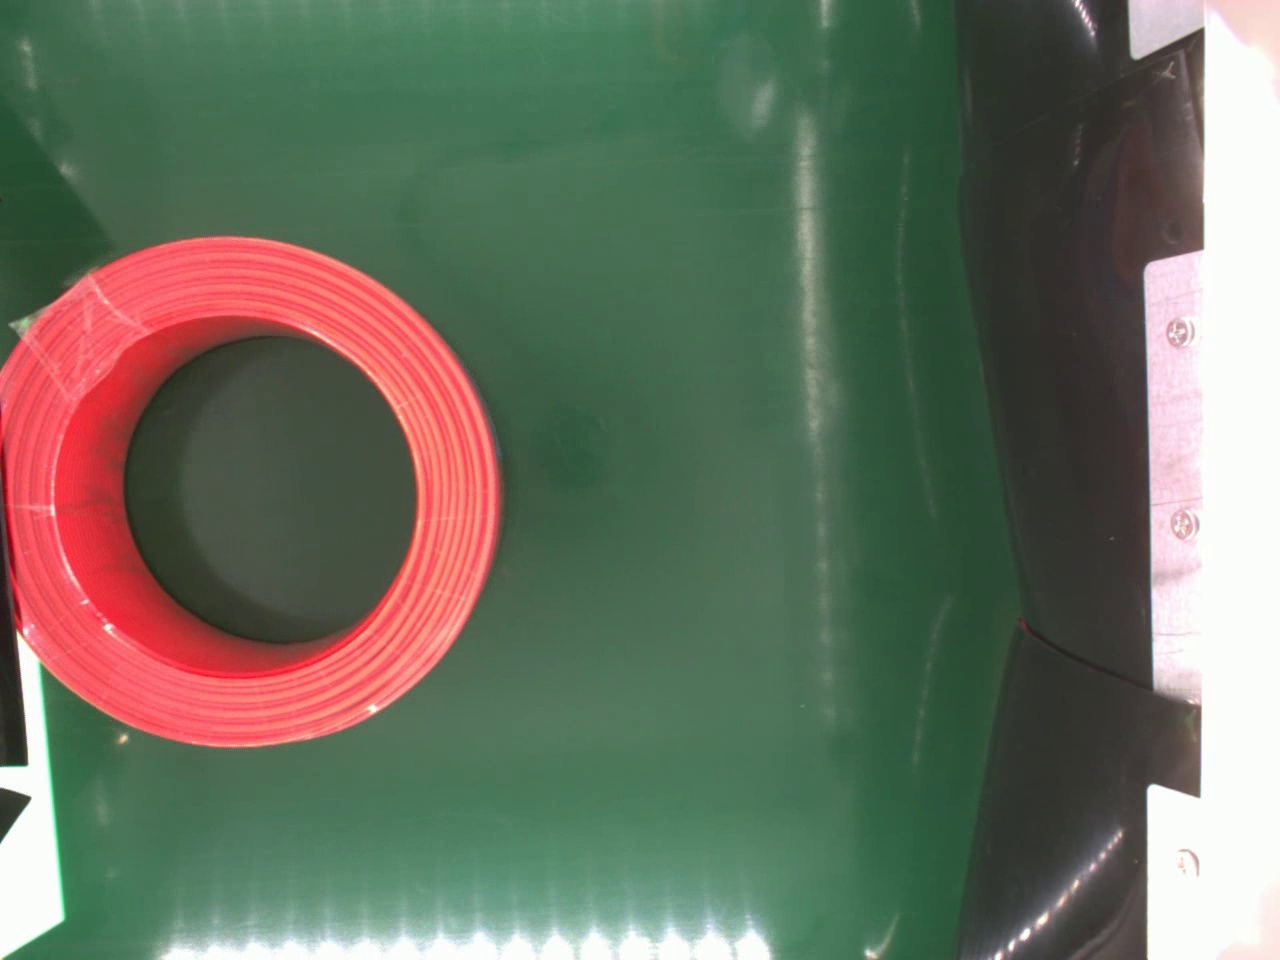red: (0, 227, 501, 745)
